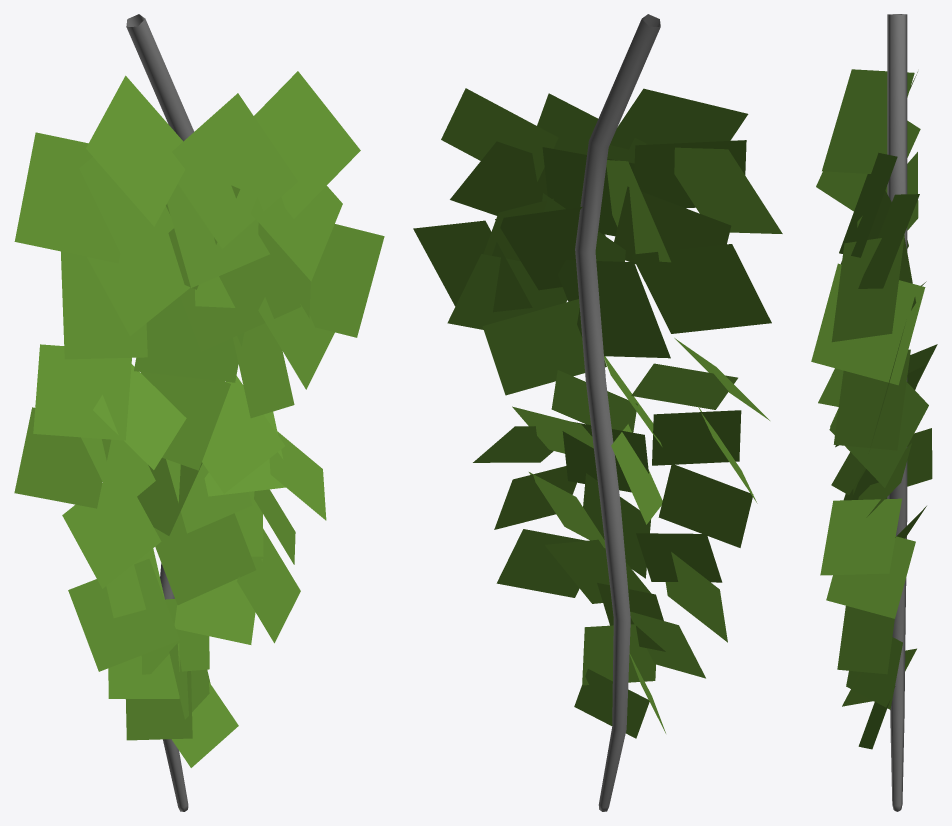
The model's file is SM_leaves_hanging_02.fbx.
3 views of the same model, side by side, from view 1: azimuth 30°, elevation 25°; view 2: azimuth 150°, elevation 25°; view 3: azimuth 270°, elevation 25° (orthographic). The views are drawn at different scales.
Parts seen in each view (by area): view 1: Line037; view 2: Line037; view 3: Line037.
Boxes of the visible parts, x1,y1,x2,y2 form: Line037: [14, 14, 384, 811]; Line037: [413, 14, 782, 811]; Line037: [811, 14, 937, 811].
Size of the model in its own units: 29.87 by 62.15 by 9.17.
